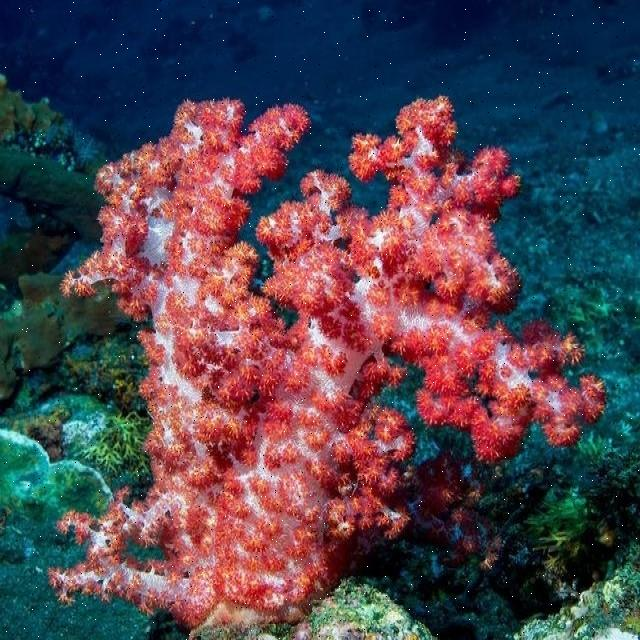reefs: (45, 95, 606, 639)
